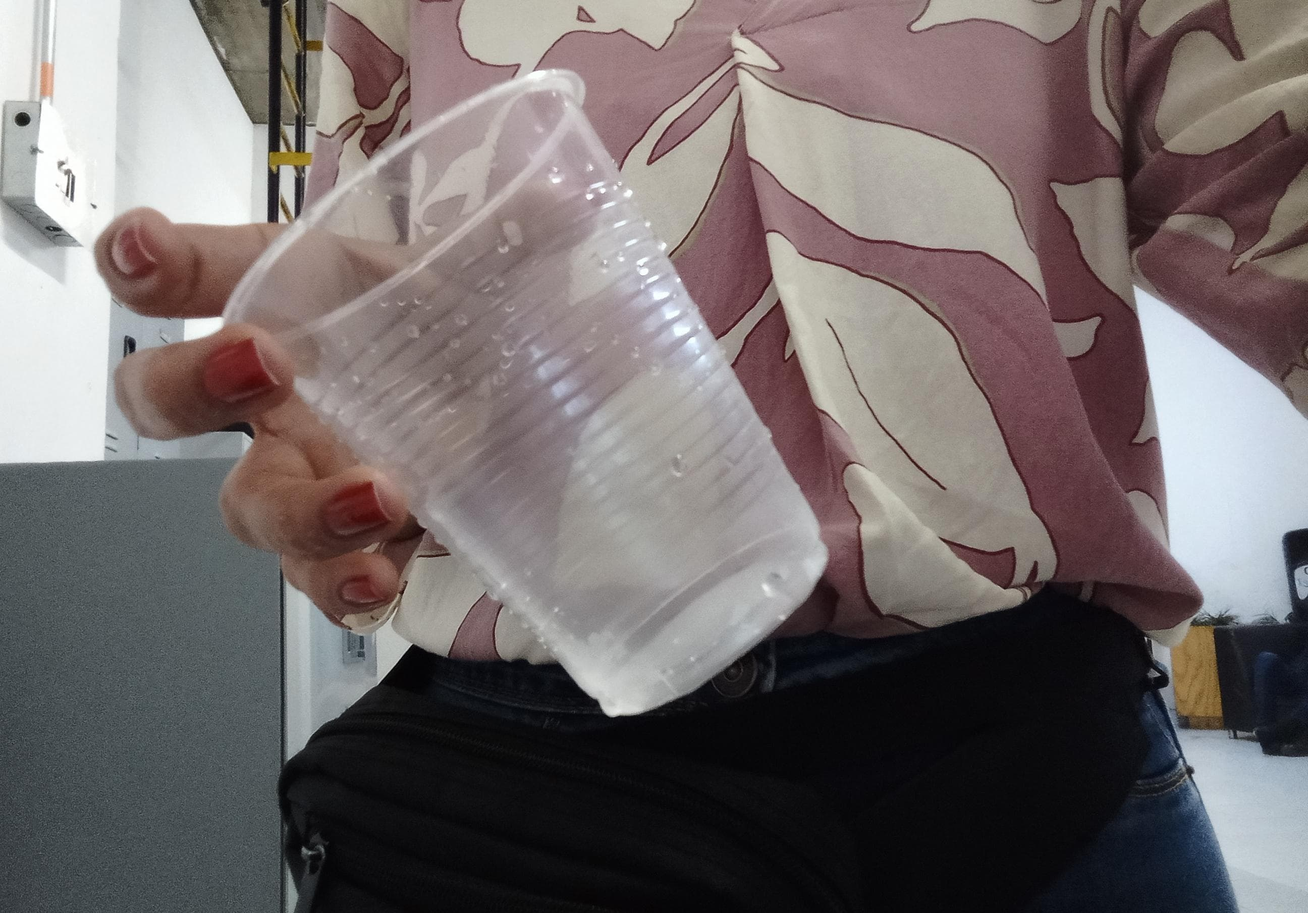Plastico: (216, 67, 827, 716)
